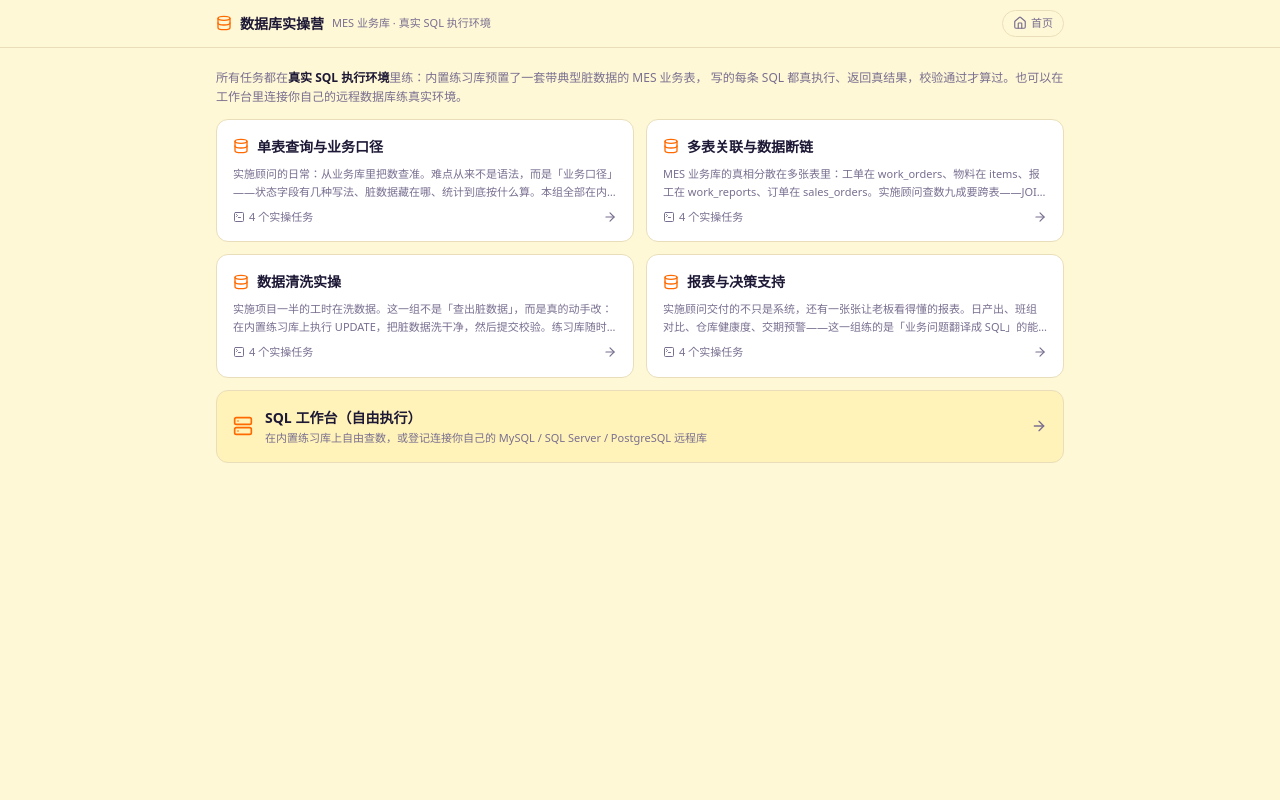
Test: 数据库实操营全流程 › 提交错误结果不锁定：给差异提示可继续修改
Step 1. Click the text "单表查询与业务口径" → (320, 146), box [257,136,383,157]
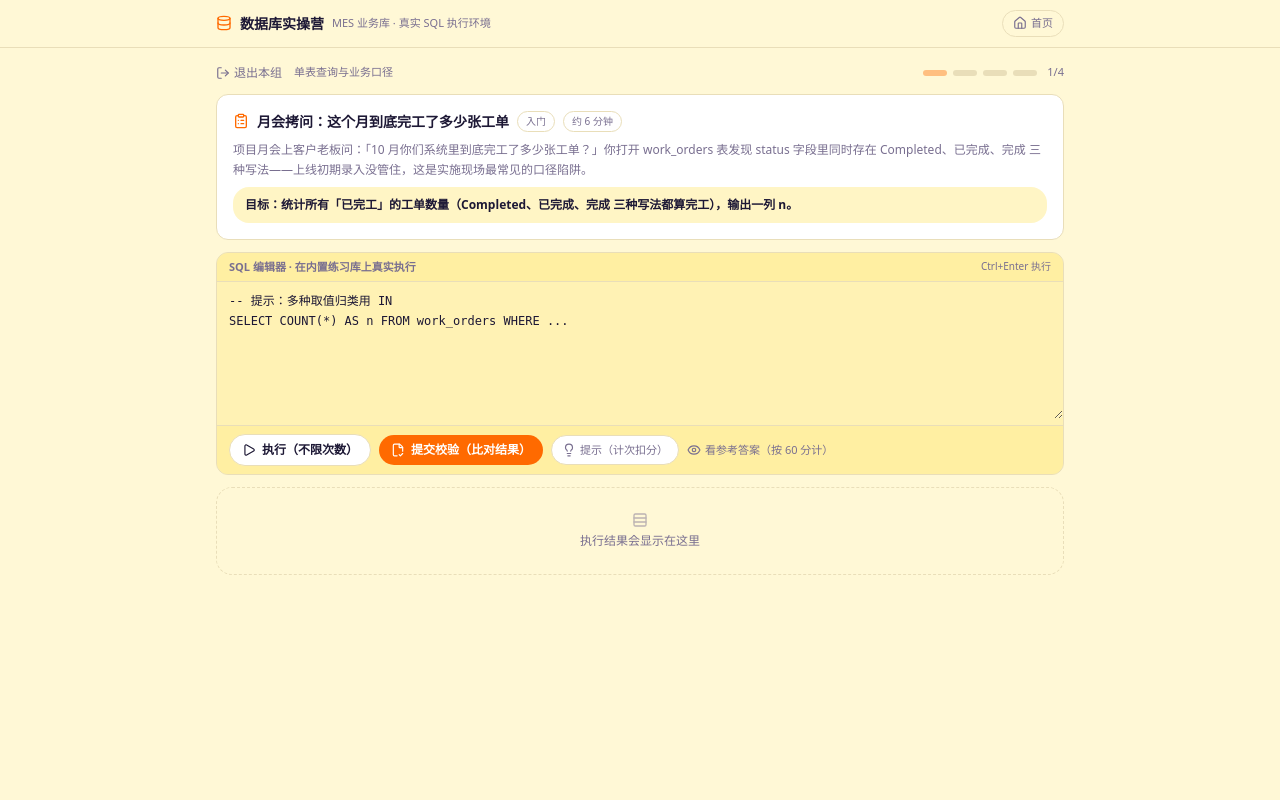
Step 2. Replace the text in the text box named "SQL 编辑区" with "SELECT COUNT(*) AS n FROM work_orders WHERE status='Released'" → (640, 350), box [217,282,1063,419]
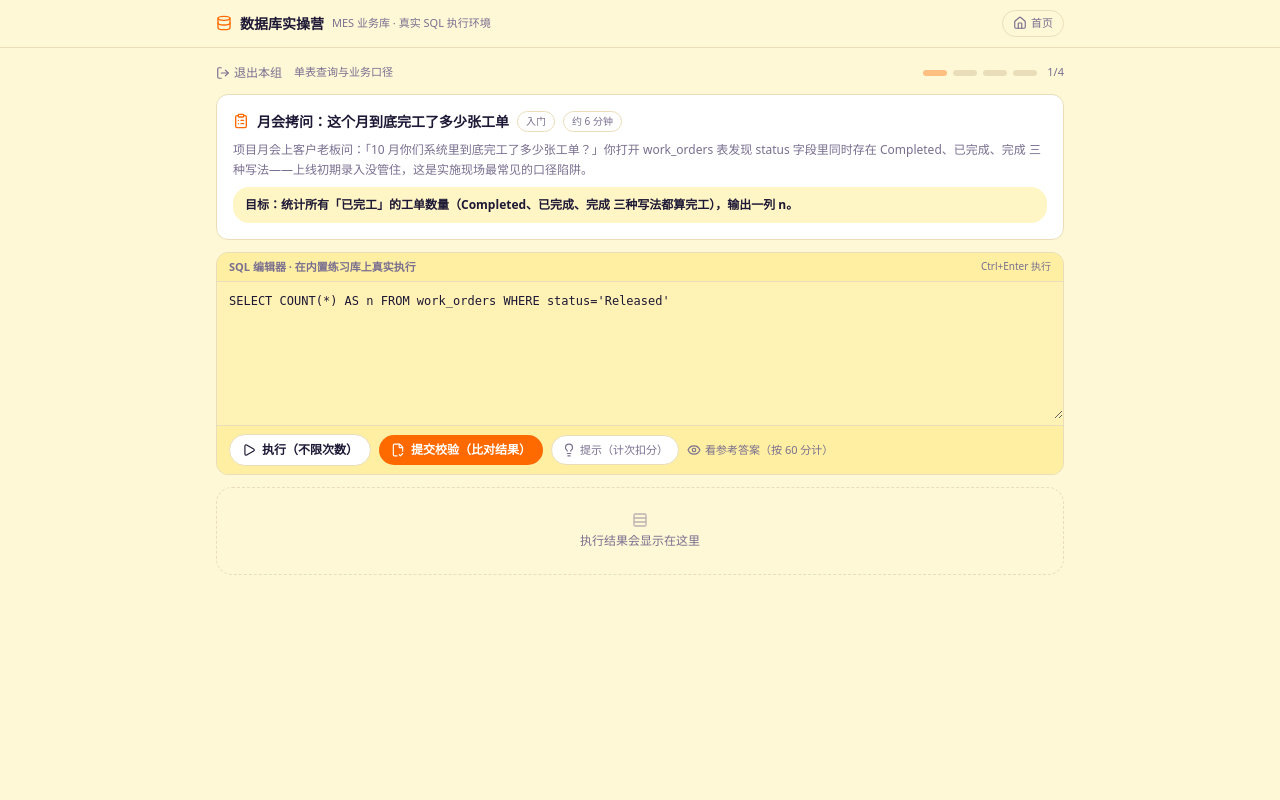
Step 3. Click the button "执行（不限次数）" → (300, 450), box [229,434,371,466]
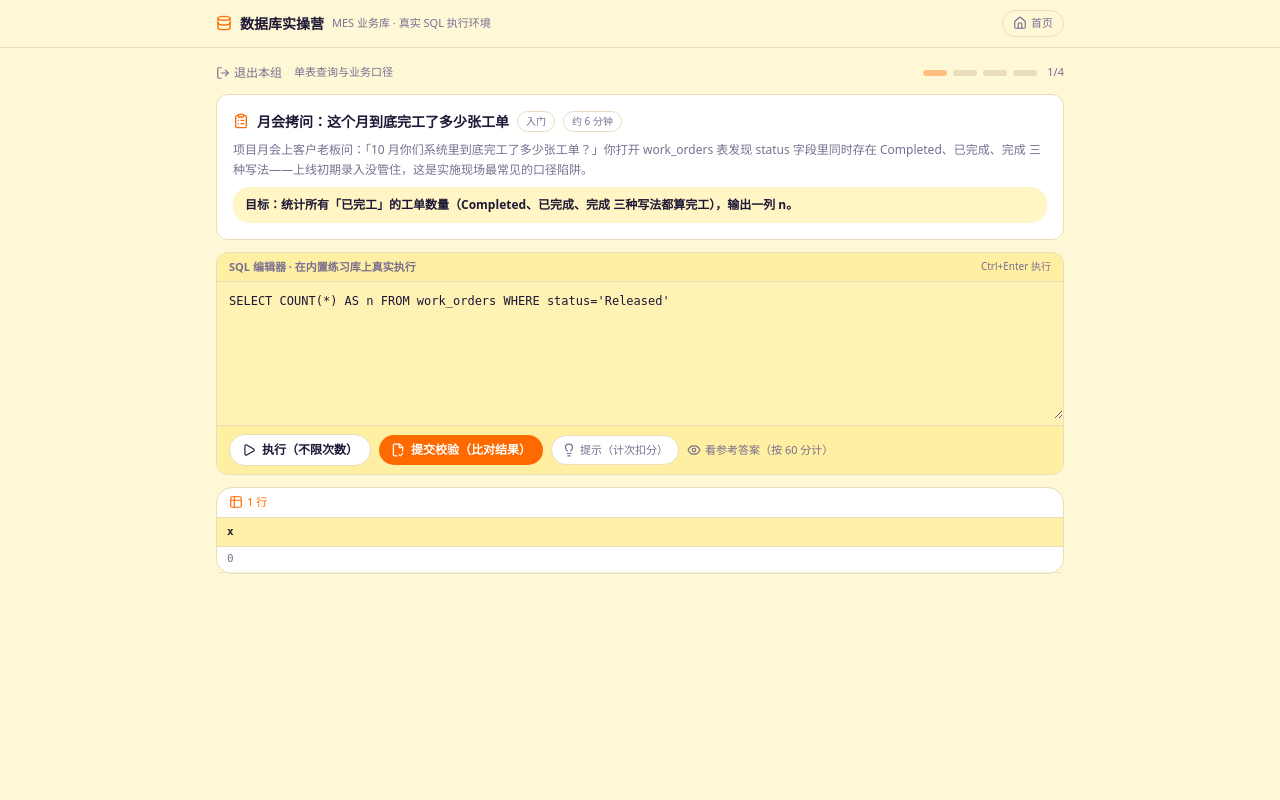
Step 4. Click the button "提交校验（比对结果）" → (461, 450), box [379,435,543,465]
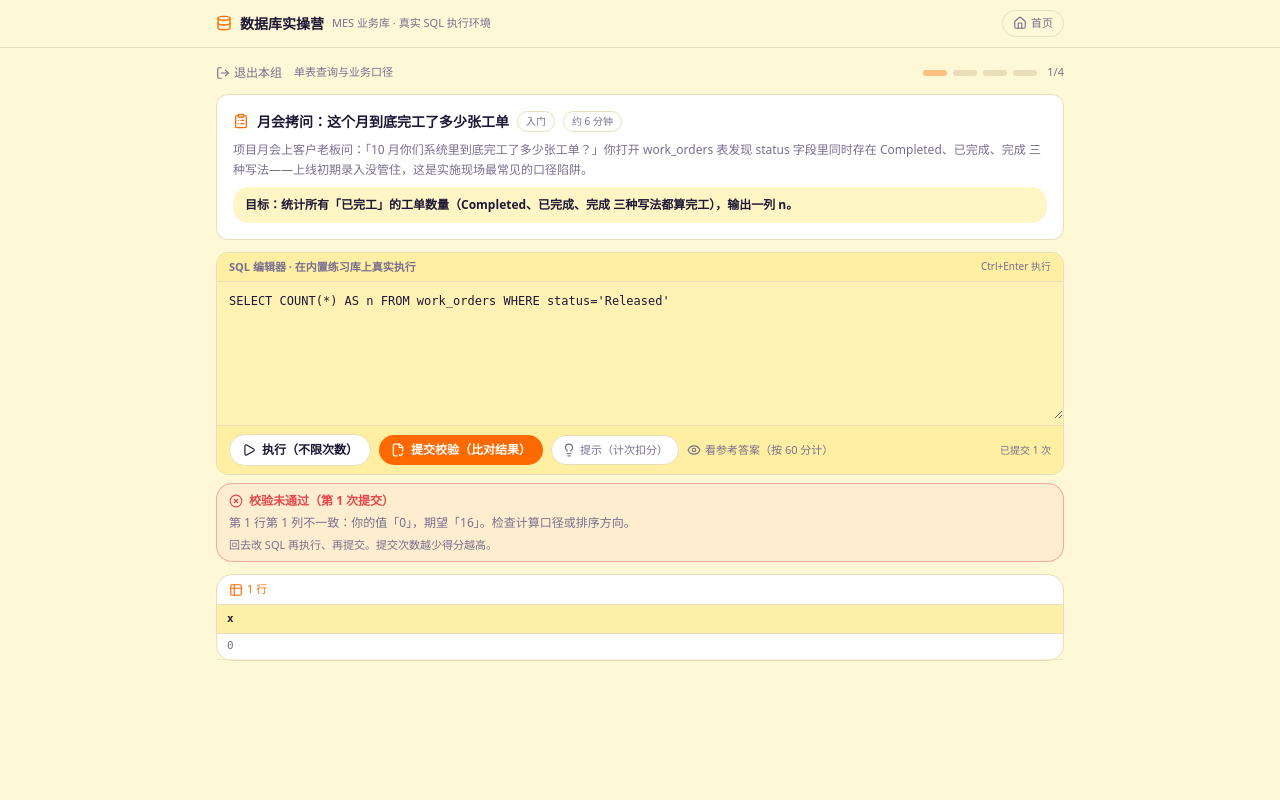
expect the text "校验未通过（第 1 次提交）" is shown: met, box [229,492,394,509]
expect the text "第 1 行第 1 列不一致：你的值「0」，期望「16」。检查计算口径或排序方向。" is shown: met, box [229,514,636,532]
